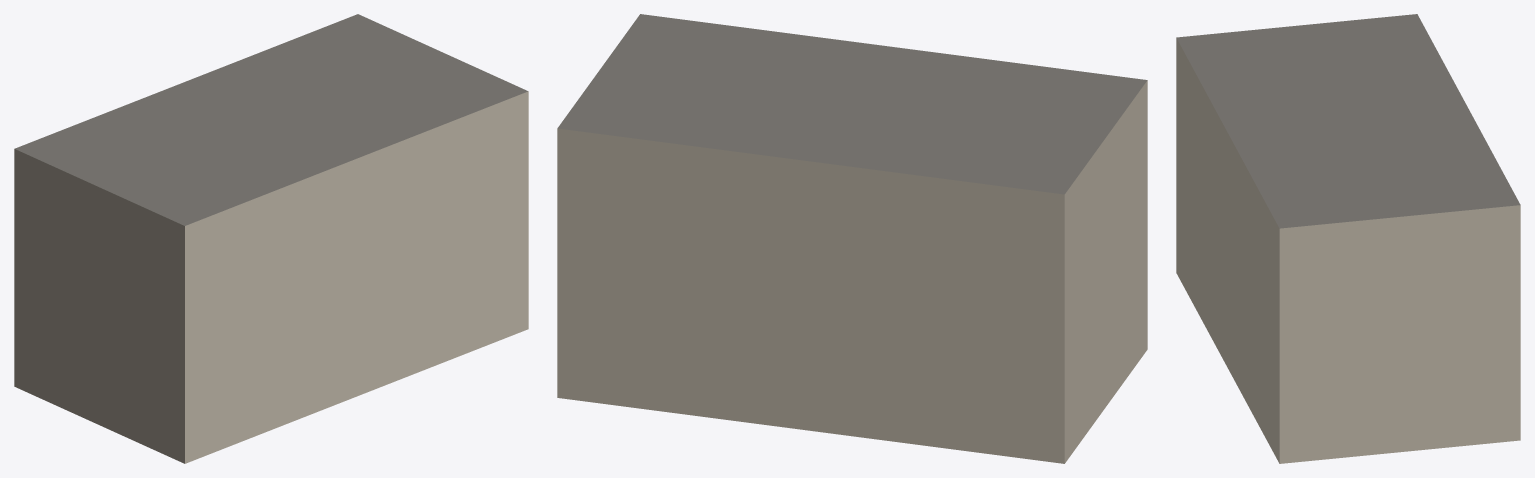
The picture shows the model from 3 angles, left to right: view 1: azimuth 30°, elevation 25°; view 2: azimuth 150°, elevation 25°; view 3: azimuth 270°, elevation 25°; orthographic projection. The views are drawn at different scales.
Visible parts, largest first — view 1: HP-w378107137; view 2: HP-w378107137; view 3: HP-w378107137.
Boxes of the visible parts, x1,y1,x2,y2 form: HP-w378107137: [14, 14, 528, 463]; HP-w378107137: [557, 14, 1147, 463]; HP-w378107137: [1176, 14, 1520, 463].
Bounding box in the file's own units: 29.33 × 15 × 19.89.
